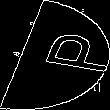P_W: (9, 31, 101, 79)
